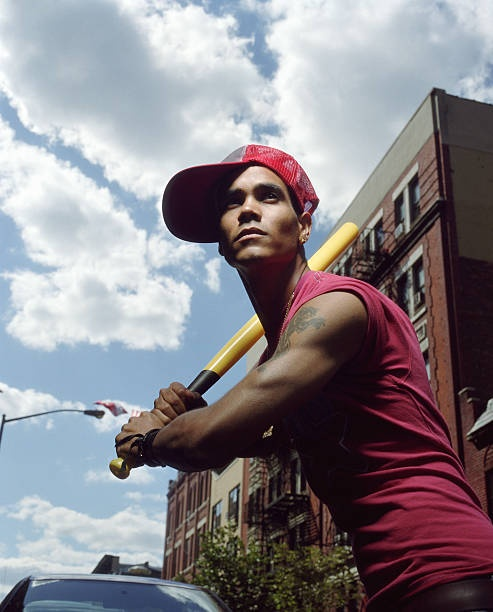bita: (108, 221, 362, 477)
